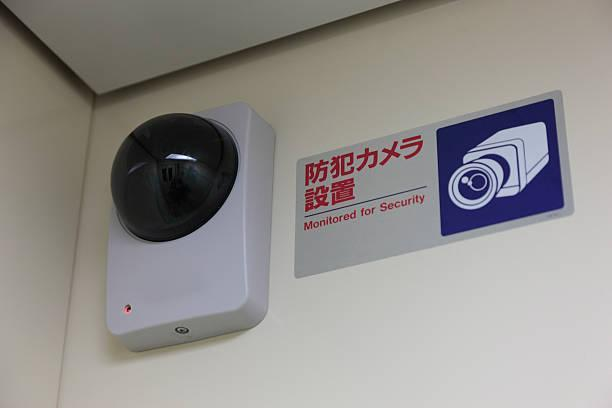camera: (94, 101, 252, 248)
